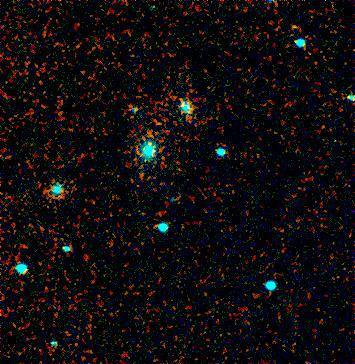star: (280, 13, 310, 43)
